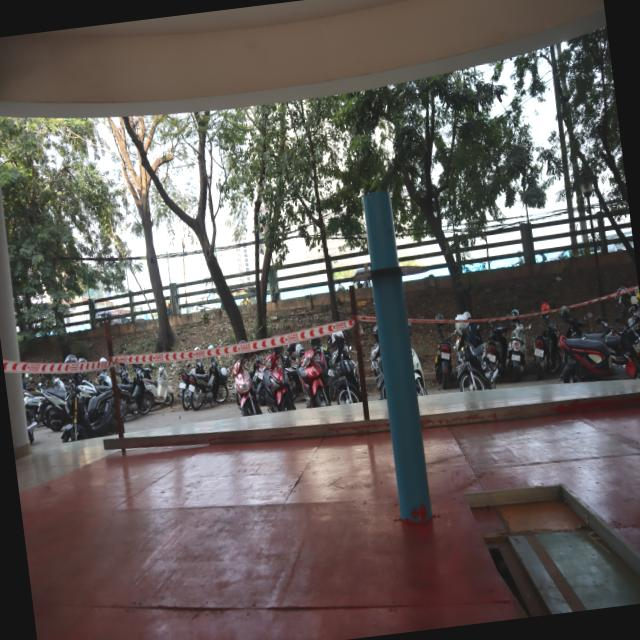pole: (330, 175, 440, 371)
